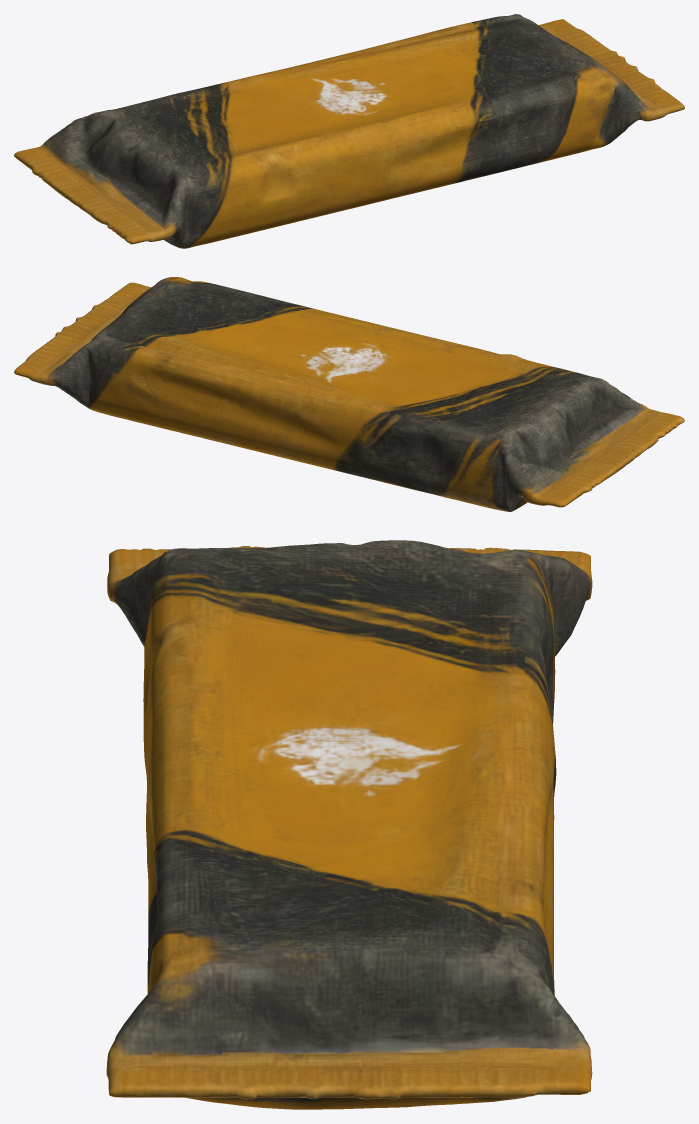
File: raw.glb
3 renders of one model, top to bottom at view 1: azimuth 30°, elevation 25°; view 2: azimuth 150°, elevation 25°; view 3: azimuth 270°, elevation 25°, orthographic. The views are drawn at different scales.
Bounding box in the file's own units: 0.9989 × 0.1385 × 0.3751.
Materials: 1 (1 with a texture image).
